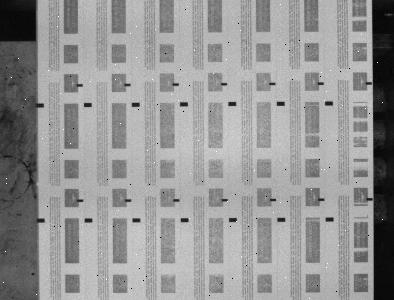backgroundclutter: (31, 272, 35, 275), (36, 182, 39, 186)
qblock: (229, 217, 237, 222), (132, 102, 140, 107), (37, 218, 45, 223), (277, 101, 285, 106), (325, 101, 334, 105), (85, 218, 93, 222), (133, 218, 141, 222), (278, 217, 286, 221), (181, 218, 189, 222), (326, 217, 334, 221), (36, 103, 44, 107), (84, 103, 92, 107), (180, 102, 188, 106), (229, 102, 237, 106)
smallqblock: (222, 198, 229, 202), (76, 83, 83, 87), (221, 82, 228, 86), (77, 199, 84, 202), (125, 199, 132, 202), (173, 199, 180, 202), (366, 82, 373, 85), (270, 198, 277, 201), (124, 83, 131, 86), (367, 198, 374, 201), (318, 82, 324, 85), (319, 198, 325, 201), (173, 83, 179, 86), (270, 82, 276, 85)
